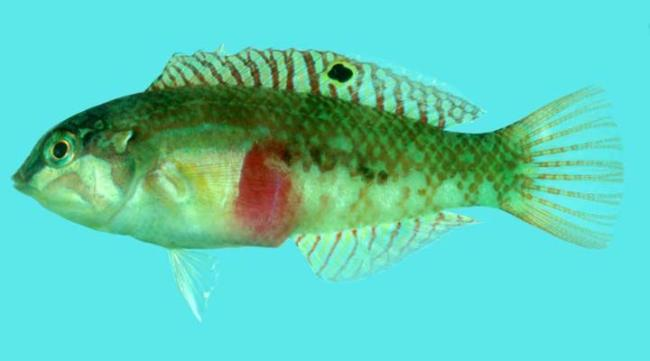fish: (10, 43, 625, 325)
